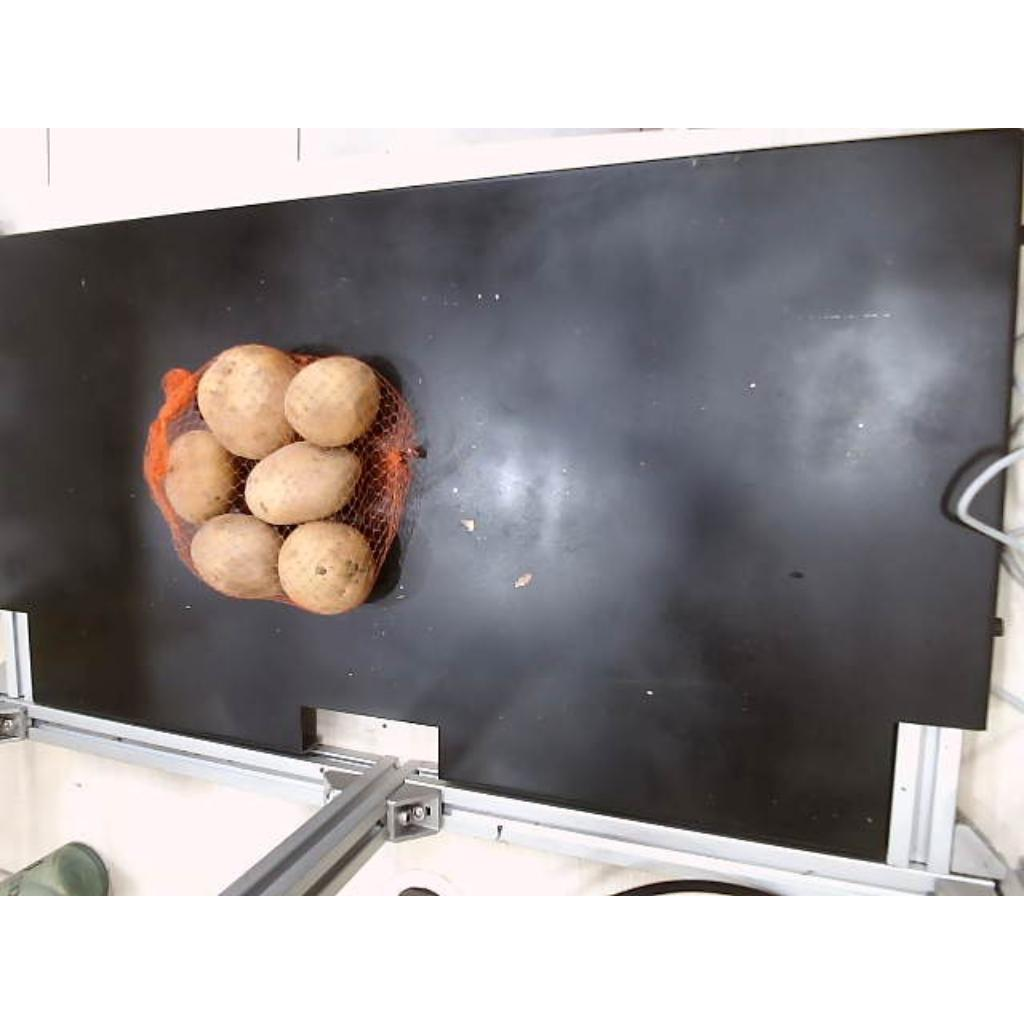potato: (198, 344, 298, 459), (244, 442, 362, 524), (284, 356, 380, 446), (280, 524, 374, 613), (190, 514, 282, 598), (164, 430, 236, 523)
